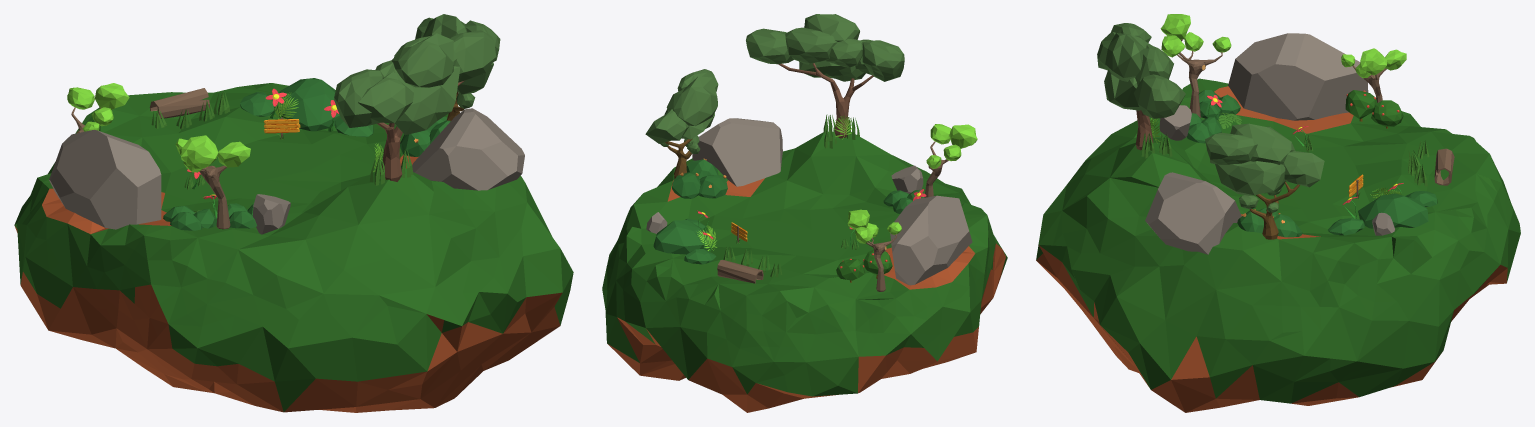
File: isla1.fbx
The picture shows the model from 3 angles, left to right: view 1: azimuth 30°, elevation 25°; view 2: azimuth 150°, elevation 25°; view 3: azimuth 270°, elevation 25°; orthographic projection. The views are drawn at different scales.
Visible parts, largest first — view 1: Icosphere, Tree2.000, Stone3.004, Stone3.001, Bush1.000, Tree1.2, Tree2.001, Tree1.000, tronco, Stone3.1, Bush2.003, Bush2.000 (+1 smaller); view 2: Icosphere, Tree2.000, Stone3.004, Stone3.001, Tree2.001, Bush1.000, Tree1.2, Bush2.000, Tree1.000, tronco, Stone3.1, Bush2.001 (+2 smaller); view 3: Icosphere, Stone3.004, Tree2.001, Tree2.000, Stone3.001, Bush1.000, Tree1.2, Tree1.000, Bush2.000, Stone3.1, Bush2.003, Bush3.003 (+3 smaller).
Part boxes in pixels (x1,y1,x2,y2): Icosphere: (14, 83, 573, 412); Tree2.000: (334, 30, 496, 181); Stone3.004: (49, 130, 161, 229); Stone3.001: (412, 108, 524, 190); Bush1.000: (240, 78, 373, 137); Tree1.2: (175, 135, 250, 229); Tree2.001: (415, 14, 500, 120); Tree1.000: (67, 83, 129, 133); tronco: (149, 88, 209, 118); Stone3.1: (253, 194, 290, 234); Bush2.003: (163, 206, 216, 230); Bush2.000: (400, 116, 450, 156); Icosphere: (602, 131, 1007, 412); Tree2.000: (746, 14, 904, 138); Stone3.004: (890, 195, 972, 285); Stone3.001: (692, 118, 782, 186); Tree2.001: (645, 69, 718, 178); Bush1.000: (653, 218, 716, 264); Tree1.2: (924, 124, 977, 197); Bush2.000: (672, 158, 727, 198); Tree1.000: (847, 209, 901, 291); tronco: (717, 260, 763, 283); Stone3.1: (891, 165, 923, 193); Bush2.001: (883, 189, 924, 213); Icosphere: (1036, 78, 1520, 412); Stone3.004: (1228, 33, 1368, 120); Tree2.001: (1205, 123, 1324, 239); Tree2.000: (1097, 23, 1185, 150); Stone3.001: (1145, 172, 1241, 254); Bush1.000: (1328, 191, 1437, 235); Tree1.2: (1160, 14, 1231, 117); Tree1.000: (1341, 48, 1406, 102); Bush2.000: (1237, 207, 1302, 237); Stone3.1: (1159, 105, 1191, 140); Bush2.003: (1198, 90, 1240, 119); Bush3.003: (1345, 90, 1377, 121).
Size of the model in its own units: 2282 by 1720 by 2319.
